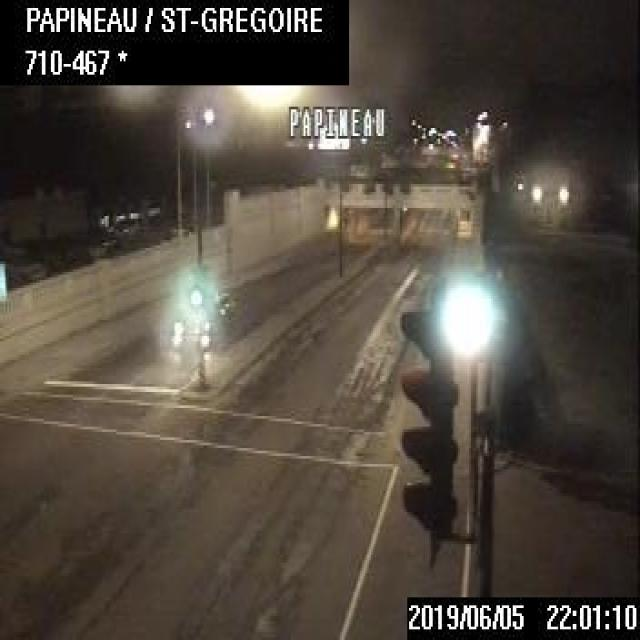vehicle: (174, 291, 231, 344)
